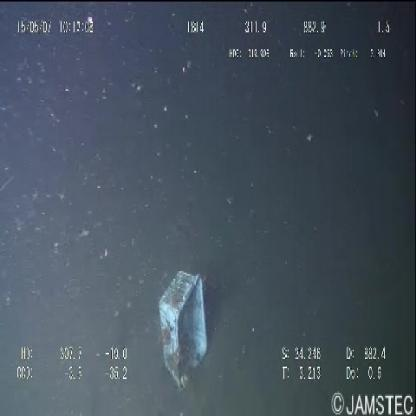Rác: (154, 260, 214, 393)
